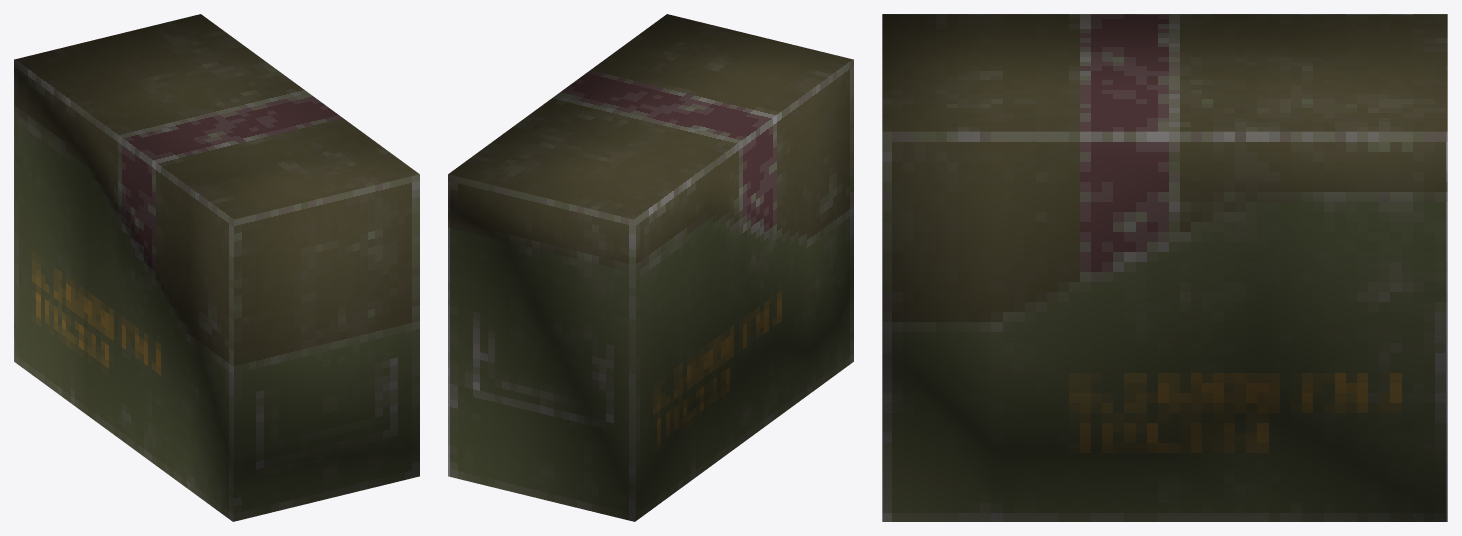
File: ammobox.gltf
The picture shows the model from 3 angles, left to right: view 1: azimuth 30°, elevation 25°; view 2: azimuth 150°, elevation 25°; view 3: azimuth 270°, elevation 25°; orthographic projection. The views are drawn at different scales.
Visible parts, largest first — view 1: Cube; view 2: Cube; view 3: Cube.
Boxes of the visible parts, <box> form: Cube: <box>14,14,419,521</box>; Cube: <box>448,14,853,521</box>; Cube: <box>882,14,1447,521</box>.
Size of the model in its own units: 0.985 by 1.52 by 2.
Materials: 1 (1 with a texture image).
